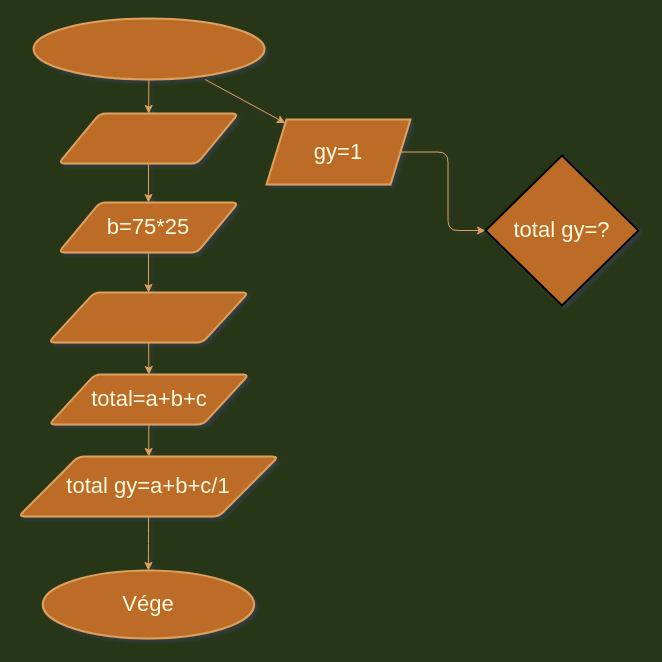
Image size: 662x662. Some labels were removed from this diagram. The box of each missing label's shape, as (x1, y1, x2, y2) in pixels:
a=75*25: (57, 112, 239, 164)
c=(75*25)/2: (47, 291, 249, 343)
Start: (32, 17, 265, 80)
